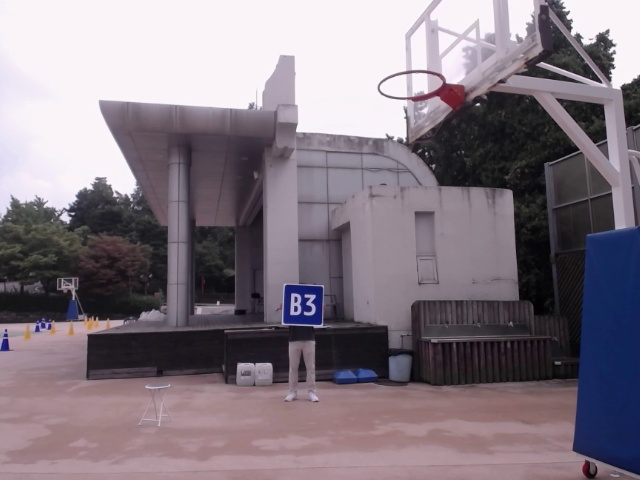delivery_b3: (280, 284, 325, 327)
